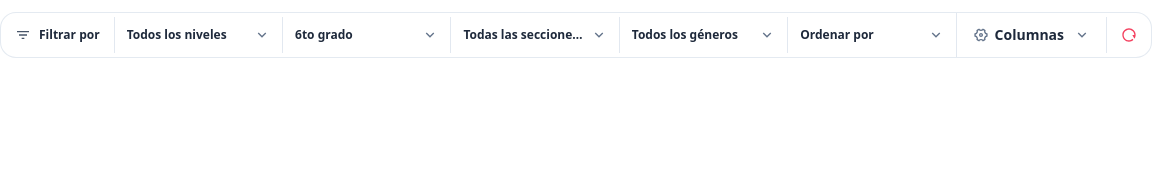
Test case: DirectorFiltrosBar Component › muestra únicamente el grado correspondiente a la evaluación cuando evaluacion.grado está definido
# Al hacer clic para desplegar opciones
Click the button with aria-label "Grado: 6to grado". click: coordinates (367, 35)
box: left=283, top=17, right=450, bottom=53
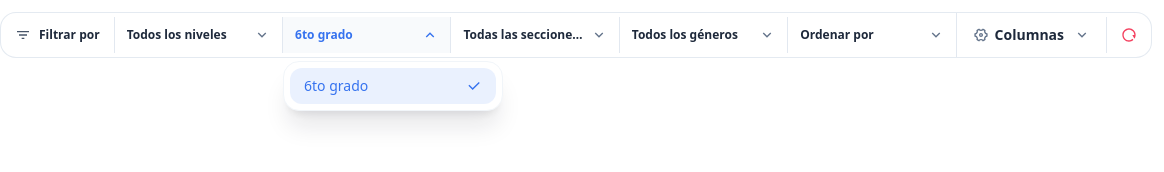
Expected: the number of options is 1, left=290, top=68, right=496, bottom=104
Expected: the option reads "6to grado", left=290, top=68, right=496, bottom=104
